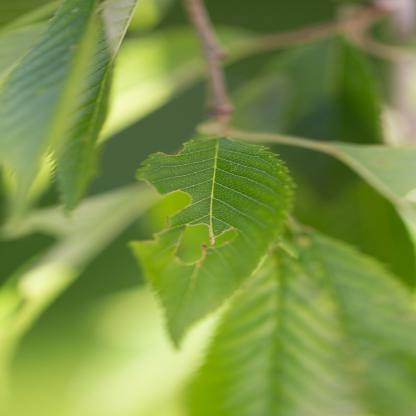cherry leaf: (117, 117, 307, 368)
